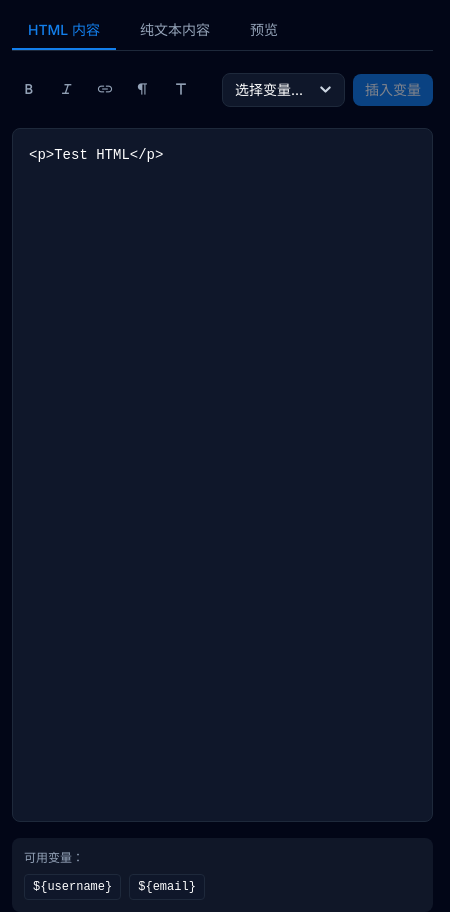
Scenario: EmailTemplateEditor Component › should enable variable insertion button when variable is selected
The image size is (450, 912).
Check: the button "插入变量" is disabled, box [353, 74, 433, 106]
Select "username" in the dropdown: {"x": 284, "y": 90} [222, 72, 345, 106]
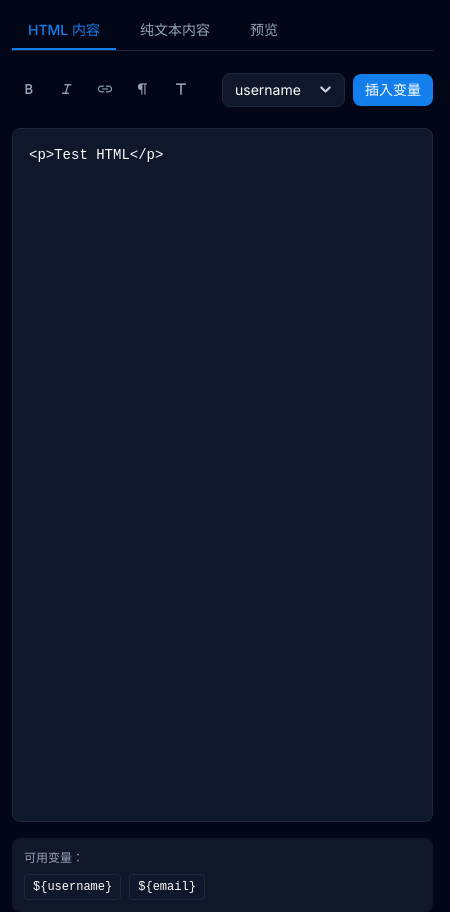
Check: the button "插入变量" is enabled, box [353, 74, 433, 106]
